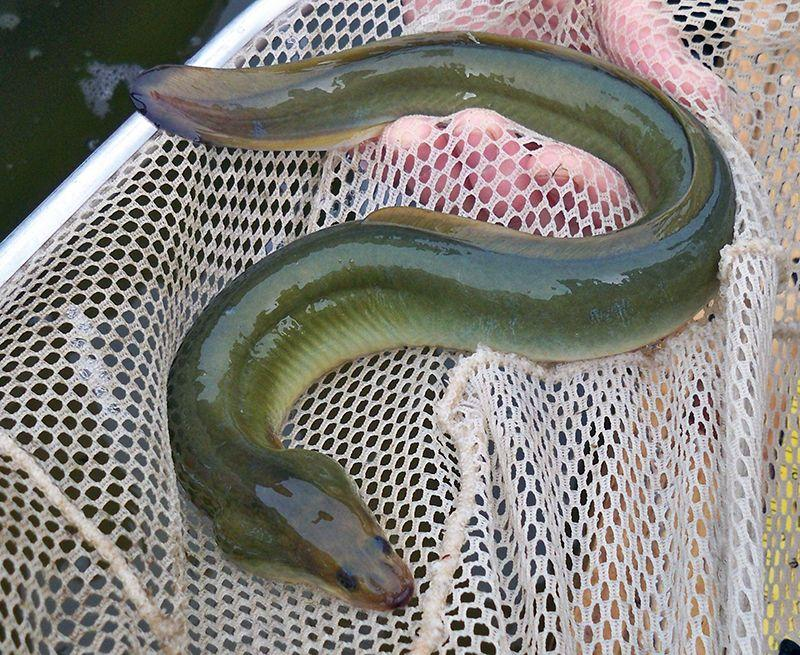Freshwater Eel: (127, 30, 735, 613)
